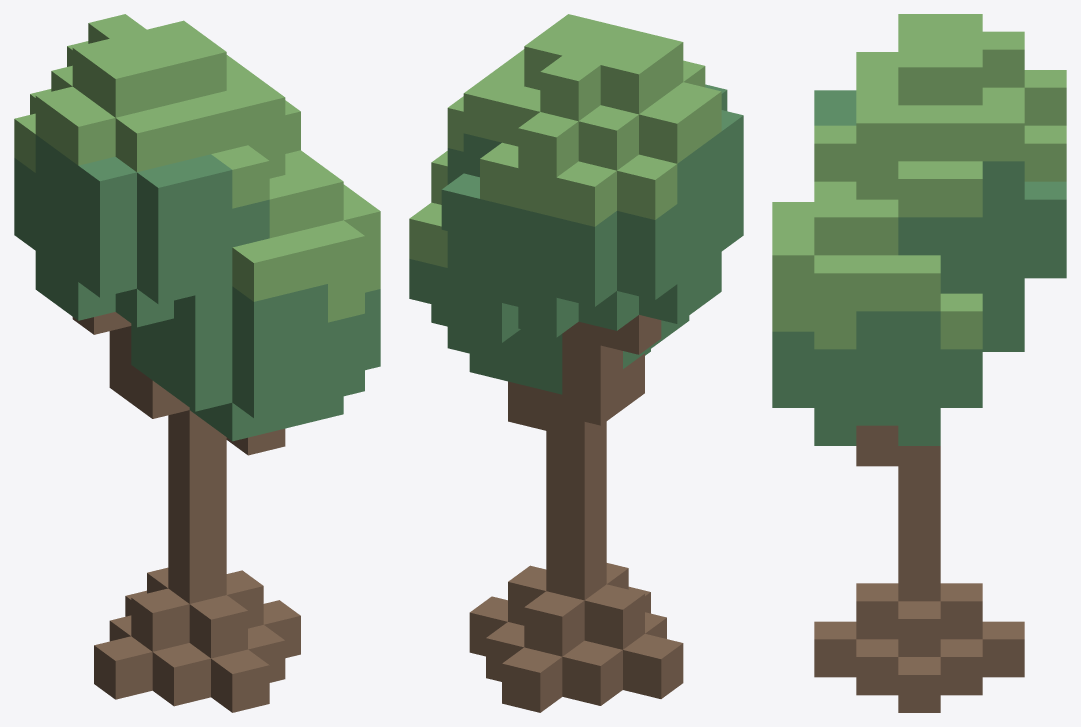
The picture shows the model from 3 angles, left to right: view 1: azimuth 30°, elevation 25°; view 2: azimuth 150°, elevation 25°; view 3: azimuth 270°, elevation 25°; orthographic projection. The views are drawn at different scales.
Parts seen in each view (by area): view 1: tree_oak_var_3_young_oak_D, tree_oak_var_3_young_oak_L, tree_oak_var_3_young_oak_W; view 2: tree_oak_var_3_young_oak_D, tree_oak_var_3_young_oak_L, tree_oak_var_3_young_oak_W; view 3: tree_oak_var_3_young_oak_L, tree_oak_var_3_young_oak_D, tree_oak_var_3_young_oak_W.
Part boxes in pixels (box(x1,y1,x2,y2)): tree_oak_var_3_young_oak_D: box(14, 135, 380, 441); tree_oak_var_3_young_oak_L: box(14, 14, 380, 322); tree_oak_var_3_young_oak_W: box(72, 312, 300, 712); tree_oak_var_3_young_oak_D: box(409, 84, 743, 394); tree_oak_var_3_young_oak_L: box(409, 14, 721, 267); tree_oak_var_3_young_oak_W: box(469, 315, 683, 712); tree_oak_var_3_young_oak_L: box(772, 14, 1066, 349); tree_oak_var_3_young_oak_D: box(772, 90, 1066, 445); tree_oak_var_3_young_oak_W: box(814, 425, 1024, 712).
Bounding box in the file's own units: 1.05 × 2.4 × 1.05.
